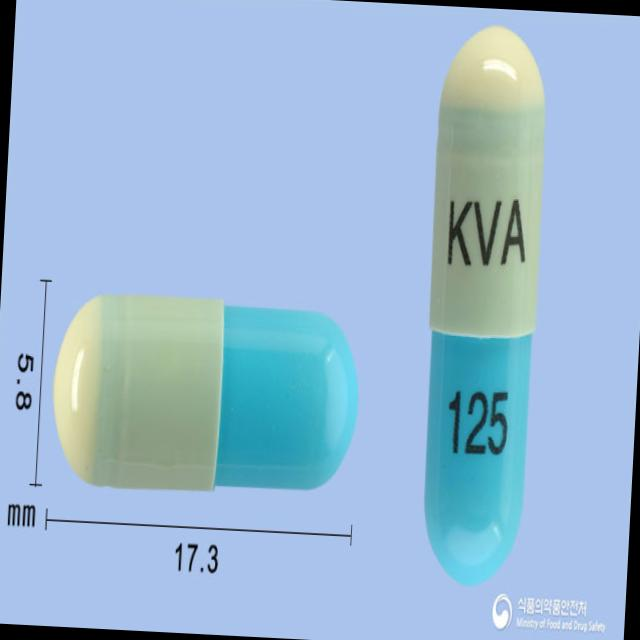Vancozin Cap: (413, 20, 554, 588)
